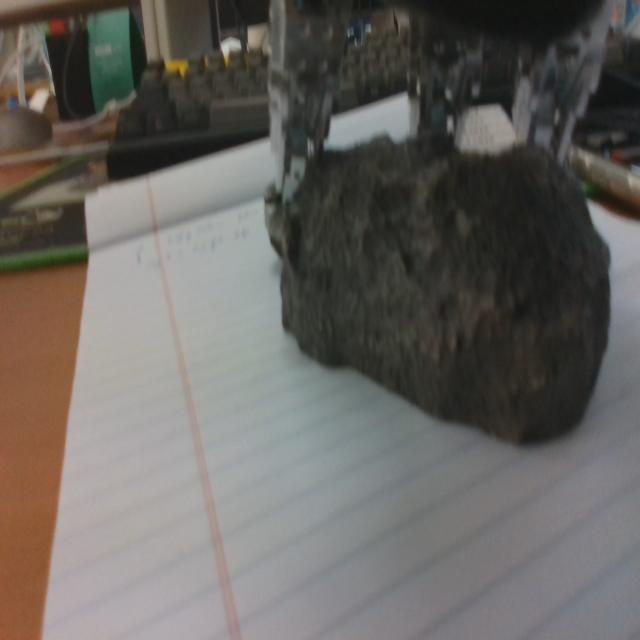stone: (280, 134, 610, 448)
